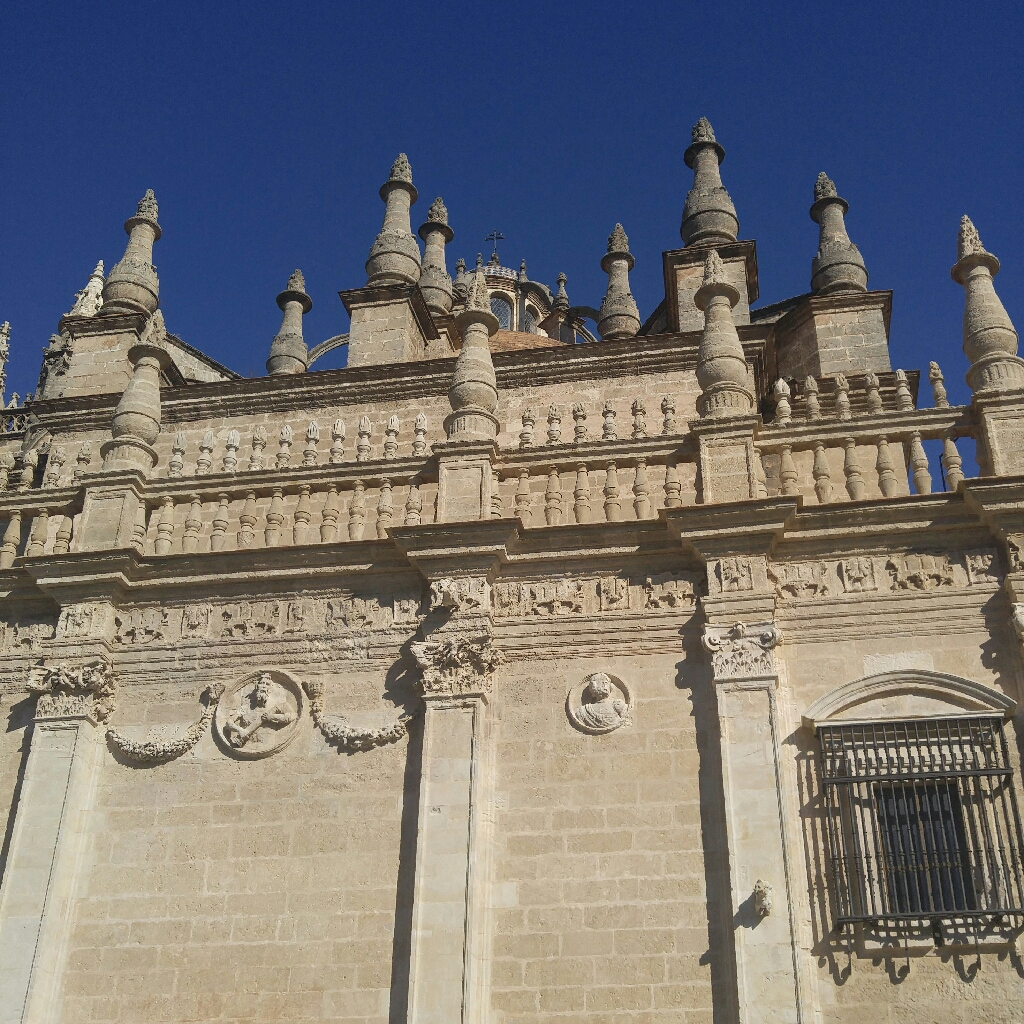fronton-curvo: (794, 667, 1024, 738)
